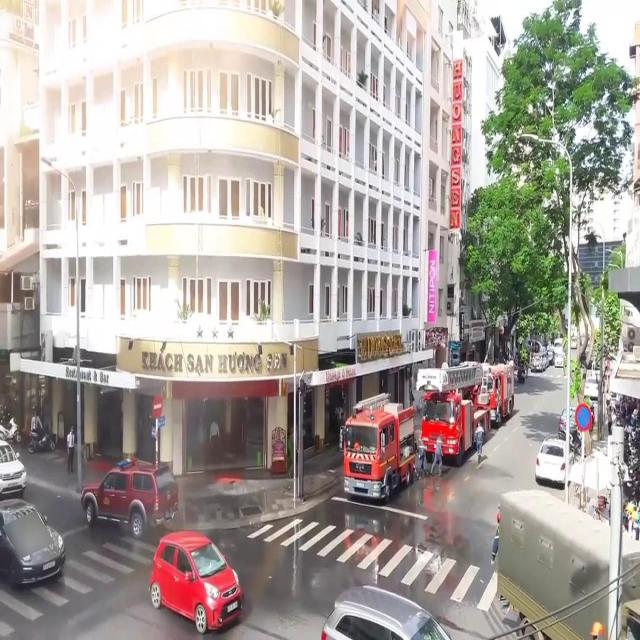car: (149, 529, 244, 635), (321, 585, 452, 639), (84, 454, 168, 531), (0, 497, 68, 589), (533, 434, 572, 485), (0, 437, 26, 499)
truck: (497, 489, 640, 640), (342, 391, 416, 502), (419, 368, 488, 467), (470, 359, 514, 427)
